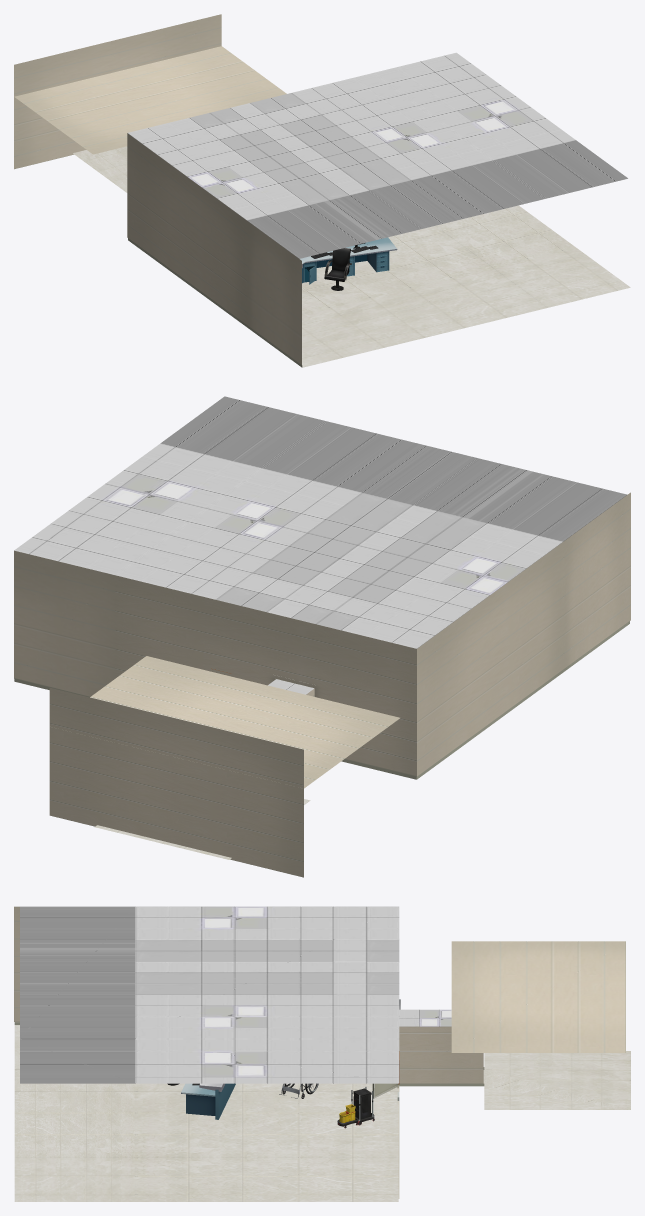
The model's file is YiYuanHuShiZhan_01_new.FBX.
The picture shows the model from 3 angles, top to bottom: view 1: azimuth 30°, elevation 25°; view 2: azimuth 150°, elevation 25°; view 3: azimuth 270°, elevation 25°; orthographic projection. The views are drawn at different scales.
Parts seen in each view (by area): view 1: HuShiZhan_qiang_01, HuShiZhan_guitai_01, HuShiZhan_yizi_01; view 2: HuShiZhan_qiang_01; view 3: HuShiZhan_qiang_01, HuShiZhan_guitai_01, HuShiZhan_dalajitong_01.
Boxes of the visible parts, <box> form: HuShiZhan_qiang_01: <box>14,14,630,367</box>; HuShiZhan_guitai_01: <box>300,237,397,284</box>; HuShiZhan_yizi_01: <box>324,247,351,290</box>; HuShiZhan_qiang_01: <box>14,396,630,877</box>; HuShiZhan_qiang_01: <box>14,906,630,1201</box>; HuShiZhan_guitai_01: <box>181,1083,235,1119</box>; HuShiZhan_dalajitong_01: <box>337,1087,374,1128</box>.
Bounding box in the file's own units: 4803 × 1474 × 6856.
